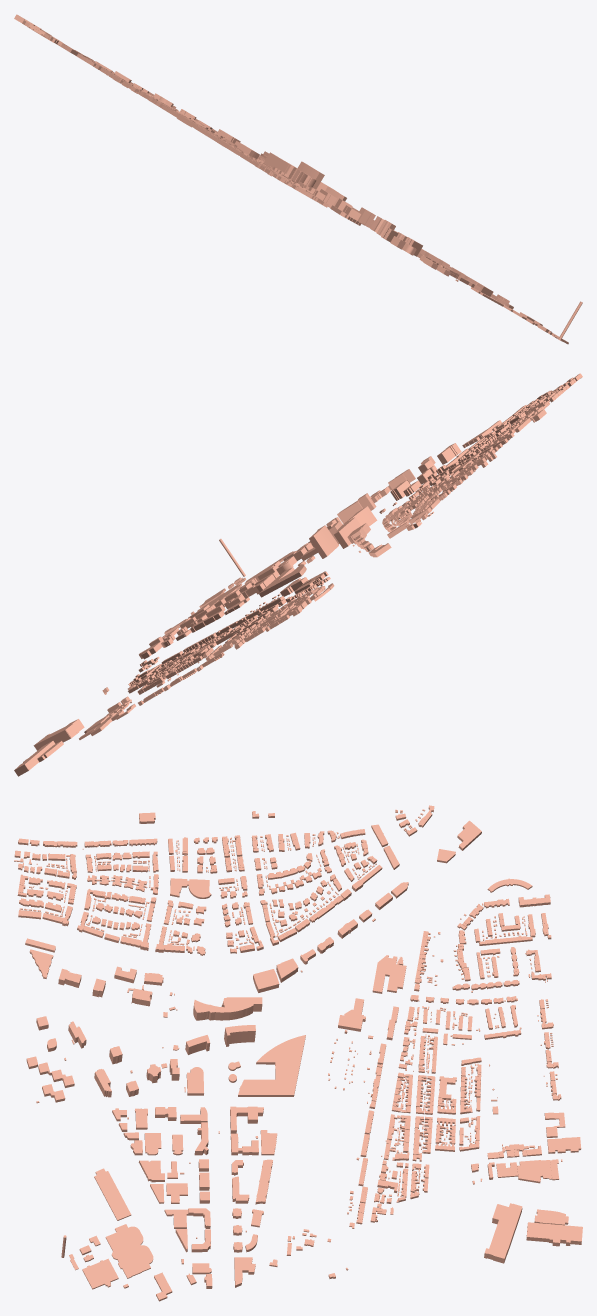
3 renders of one model, top to bottom at view 1: azimuth 30°, elevation 25°; view 2: azimuth 150°, elevation 25°; view 3: azimuth 270°, elevation 25°, orthographic.
Size of the model in its own units: 1025 by 771 by 1289.
